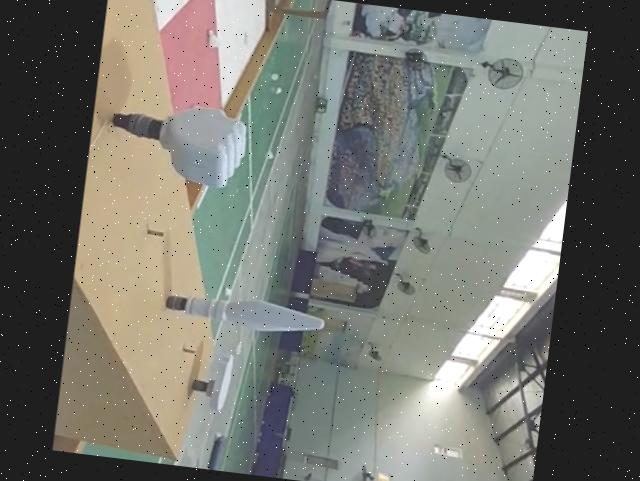Hand: (190, 353, 237, 412)
Sph: (105, 92, 256, 191), (160, 283, 330, 342)
